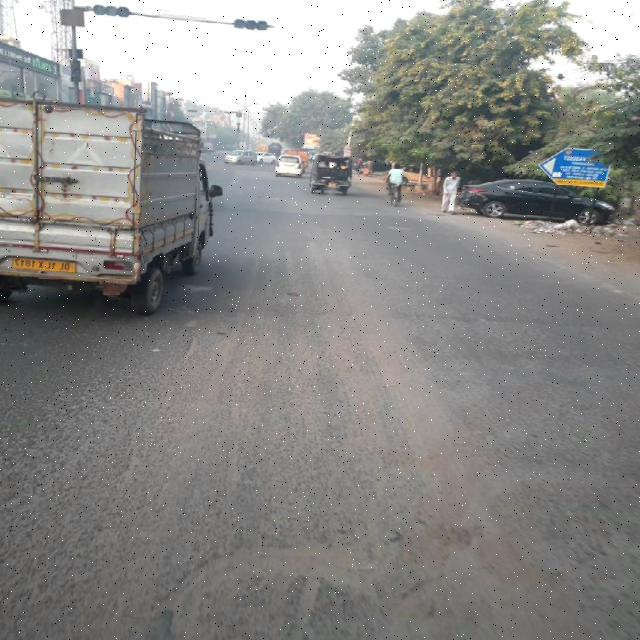D20: (4, 315, 416, 575)
D40: (152, 522, 472, 636)
